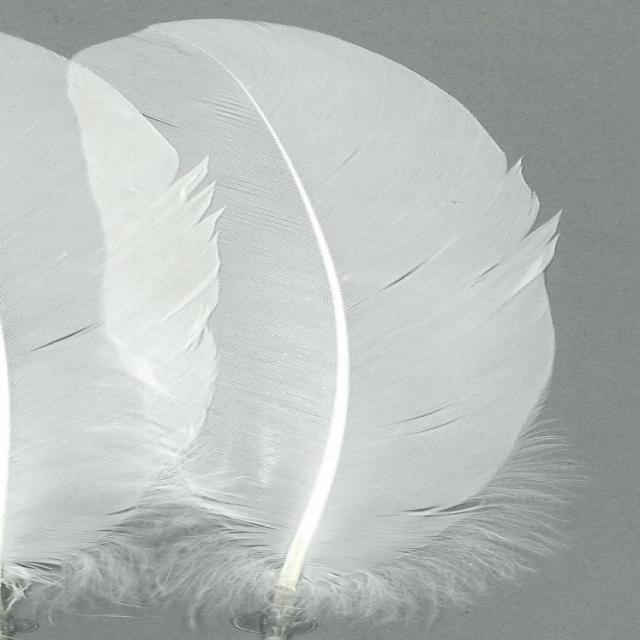feather: (80, 16, 576, 640), (0, 33, 216, 640)
